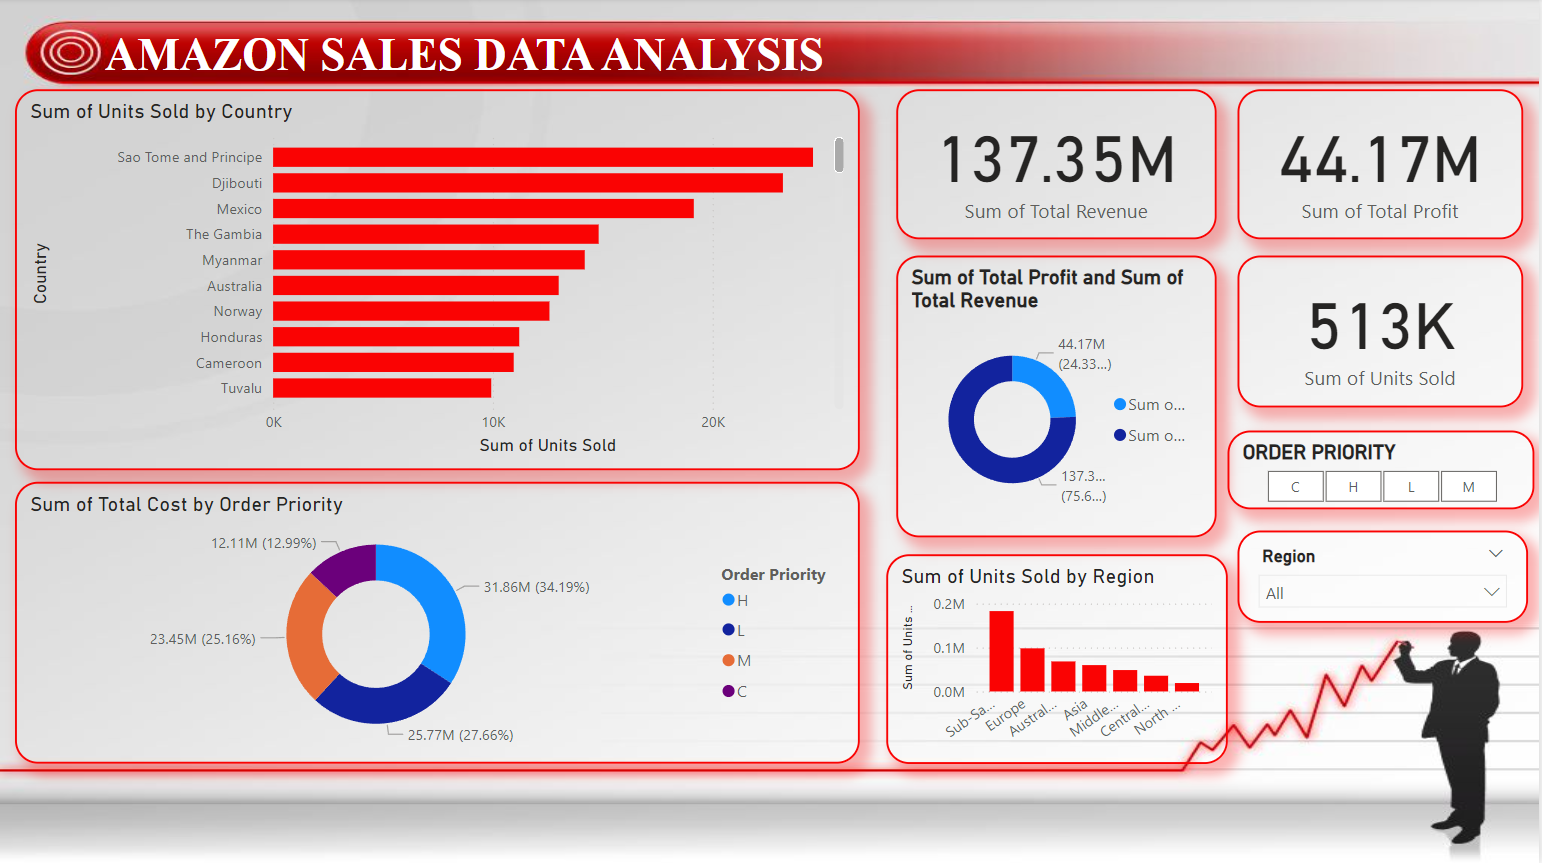

This screenshot's page, from the dashboard's own definition file:
{"tool":"powerbi","page":{"name":"Page 1","canvas":[1280,720],"ordinal":0},"visuals":[{"type":"card","fields":{"Values":["Sum(Amazon Sales data.Units Sold)"]},"box":[1029.2,214.1,237.4,126.2],"z":0},{"type":"card","fields":{"Values":["Sum(Amazon Sales data.Total Profit)"]},"box":[1029.2,75.5,237.4,124.9],"z":1000},{"type":"card","fields":{"Values":["Sum(Amazon Sales data.Total Revenue)"]},"box":[745.1,75.5,266.2,124.9],"z":2000},{"type":"textbox","box":[82.3,20.6,662.8,64.5],"z":3000},{"type":"donutChart","fields":{"Category":["Amazon Sales data.Order Priority"],"Y":["Sum(Amazon Sales data.Total Cost)"]},"box":[12.3,402.1,702.6,234.6],"z":5000},{"type":"donutChart","fields":{"Y":["Sum(Amazon Sales data.Total Profit)","Sum(Amazon Sales data.Total Revenue)"]},"box":[745.1,214.1,266.2,234.6],"z":6000},{"type":"slicer","title":"ORDER PRIORITY","fields":{"Values":["Amazon Sales data.Order Priority"]},"box":[1020.9,359.5,255.2,65.9],"z":7000},{"type":"clusteredBarChart","fields":{"Category":["Amazon Sales data.Country"],"Y":["Sum(Amazon Sales data.Units Sold)"]},"box":[12.3,75.5,702.6,317],"z":7001},{"type":"clusteredColumnChart","fields":{"Y":["Sum(Amazon Sales data.Units Sold)"],"Category":["Amazon Sales data.Region"]},"box":[736.9,462.4,284,174.3],"z":7002},{"type":"slicer","fields":{"Values":["Amazon Sales data.Region"]},"box":[1029.2,443.2,241.5,76.8],"z":7003}]}

Visuals, with their boxes in screenshot pixels (x1, y1, x2, y2), scaled from the page's 1280x720 canvas onto the 1542x863 screenshot:
card - Sum(Amazon Sales data.Units Sold): region(1240, 257, 1526, 408)
card - Sum(Amazon Sales data.Total Profit): region(1240, 90, 1526, 240)
card - Sum(Amazon Sales data.Total Revenue): region(898, 90, 1218, 240)
textbox: region(99, 25, 898, 102)
donutChart - Amazon Sales data.Order Priority x Sum(Amazon Sales data.Total Cost): region(15, 482, 861, 763)
donutChart - Sum(Amazon Sales data.Total Profit) x Sum(Amazon Sales data.Total Revenue): region(898, 257, 1218, 538)
"ORDER PRIORITY" slicer: region(1230, 431, 1537, 510)
clusteredBarChart - Amazon Sales data.Country x Sum(Amazon Sales data.Units Sold): region(15, 90, 861, 470)
clusteredColumnChart - Sum(Amazon Sales data.Units Sold) x Amazon Sales data.Region: region(888, 554, 1230, 763)
slicer - Amazon Sales data.Region: region(1240, 531, 1531, 623)
